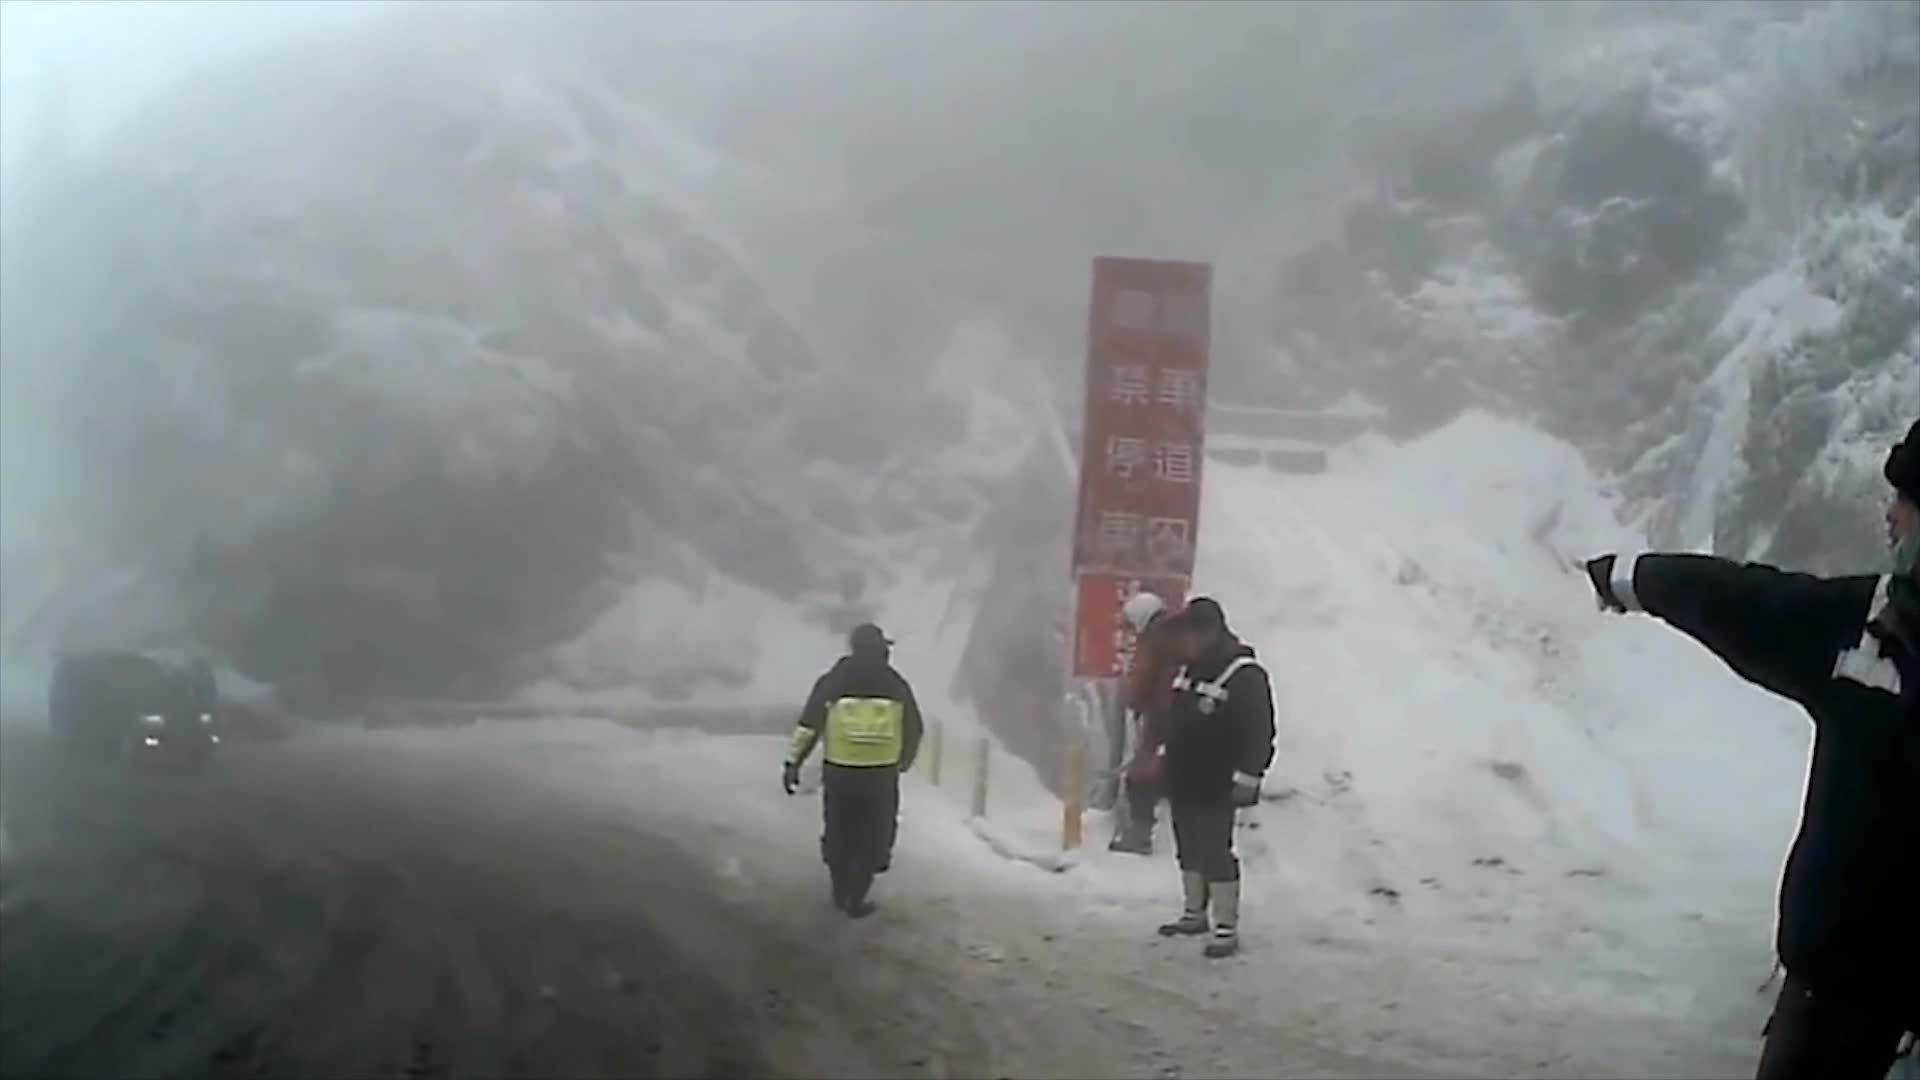pedestrian: (1575, 416, 1919, 1076), (1157, 601, 1281, 961), (781, 629, 926, 917)
vehicle: (48, 644, 220, 769)
